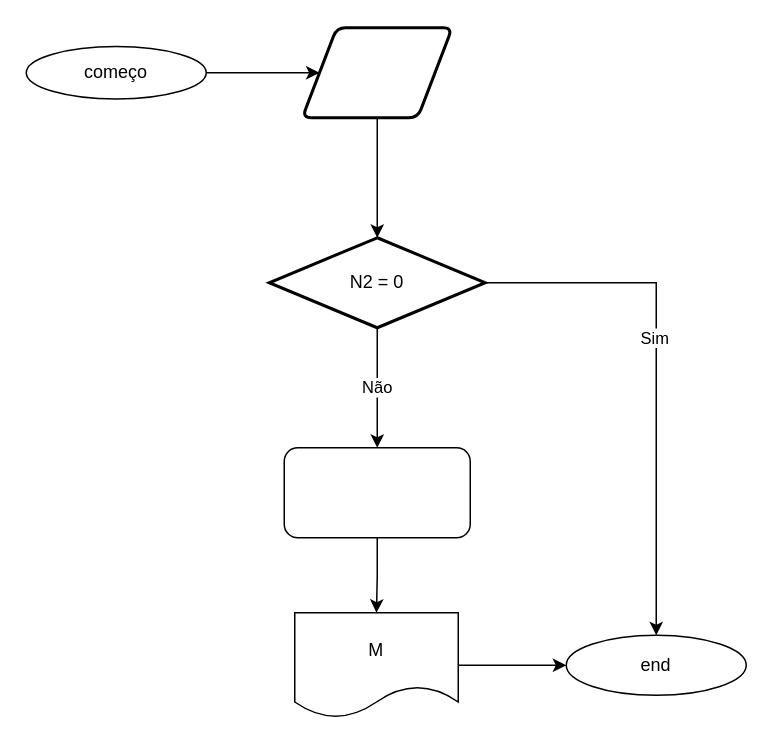
Some shapes in this 773 by 744 pixel diagram are drawn without their labels. Each missing label, with the box of its shape:
M = N1(maior) / N2(menor): (283, 446, 470, 538)
N1 e N2: (300, 26, 453, 118)
